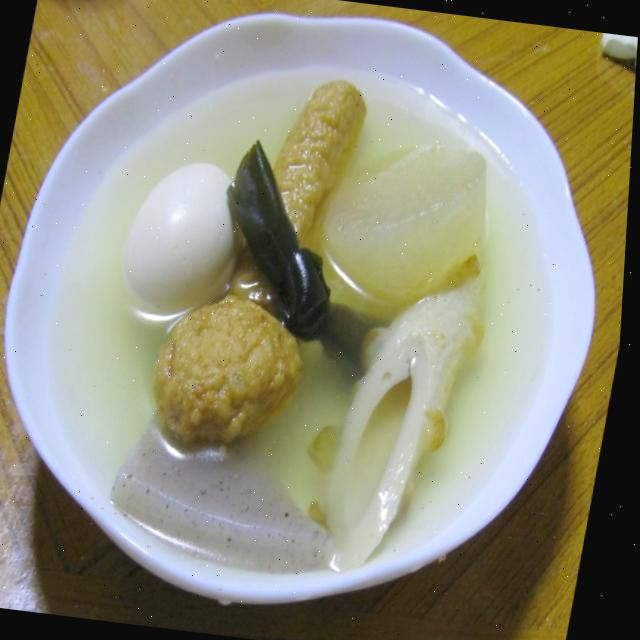汤锅炖物: (72, 44, 533, 594)
